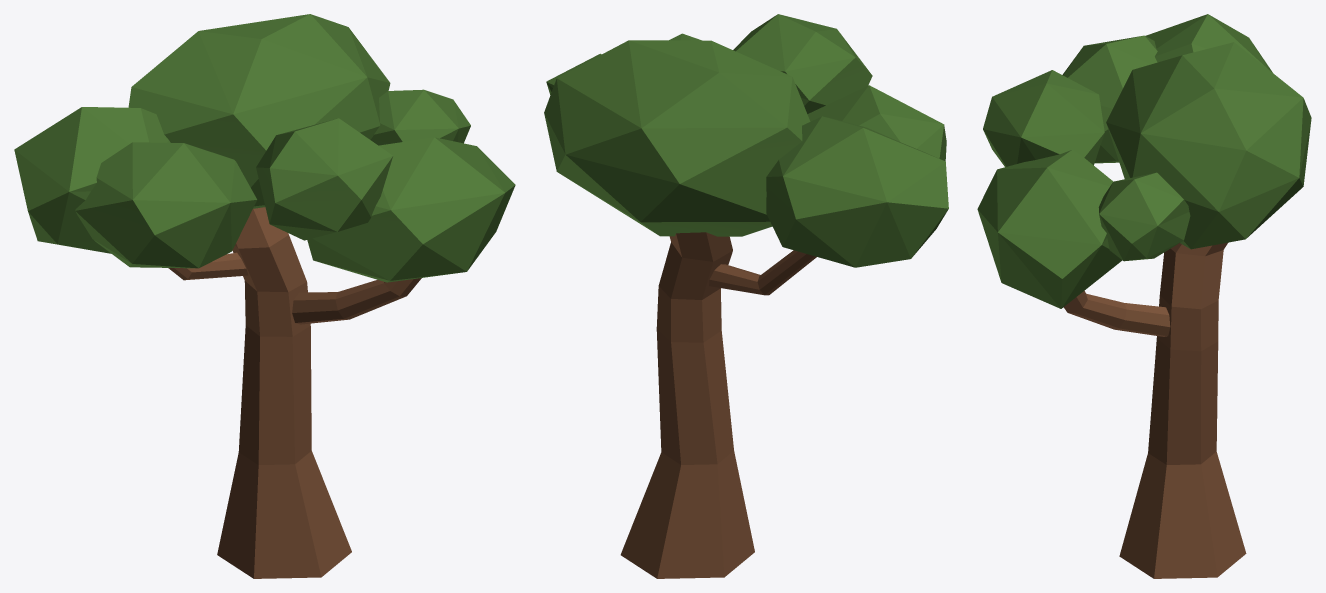
The model's file is Tree_1.fbx.
3 views of the same model, side by side, from view 1: azimuth 30°, elevation 25°; view 2: azimuth 150°, elevation 25°; view 3: azimuth 270°, elevation 25° (orthographic). The views are drawn at different scales.
Parts seen in each view (by area): view 1: Tree_1; view 2: Tree_1; view 3: Tree_1.
Boxes of the visible parts, x1,y1,x2,y2 form: Tree_1: (14,14,515,578); Tree_1: (544,14,948,578); Tree_1: (977,14,1311,578).
Size of the model in its own units: 510 by 594 by 368.
